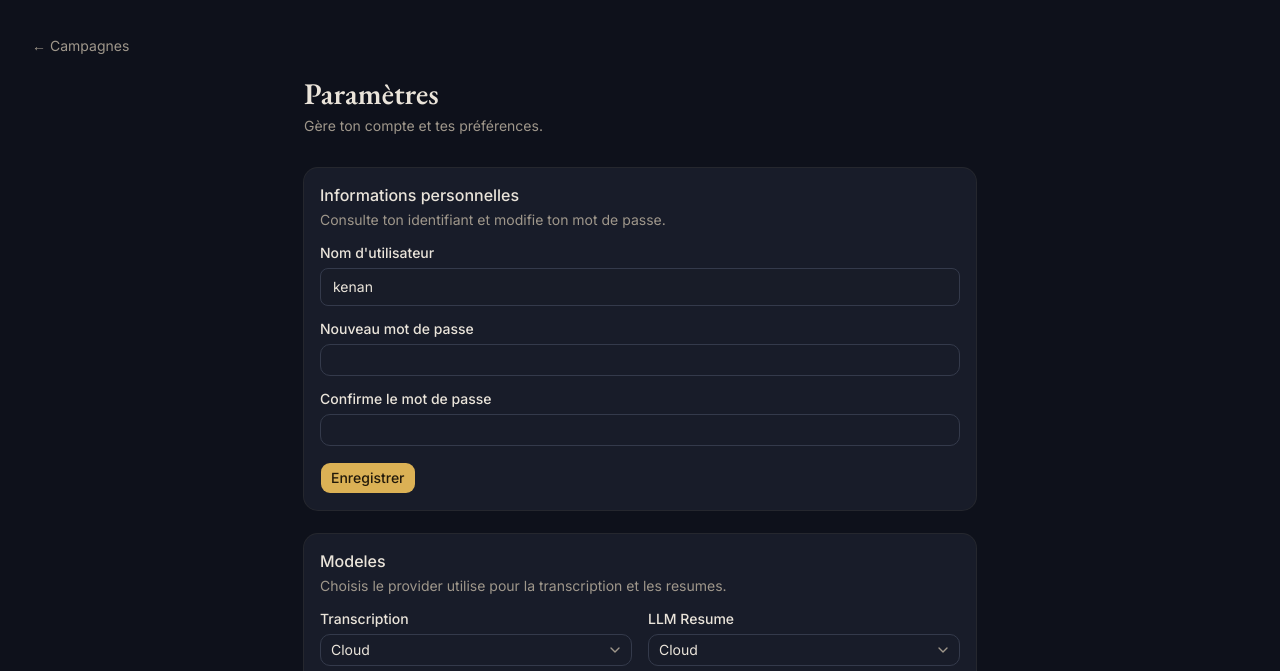
<SettingsPage> › PATCH 403 -> message de permission, pas de toast de succes
Type "nouveau-secret" into the password field labelled "Nouveau mot de passe" at [640, 360], box [320,344,960,376]
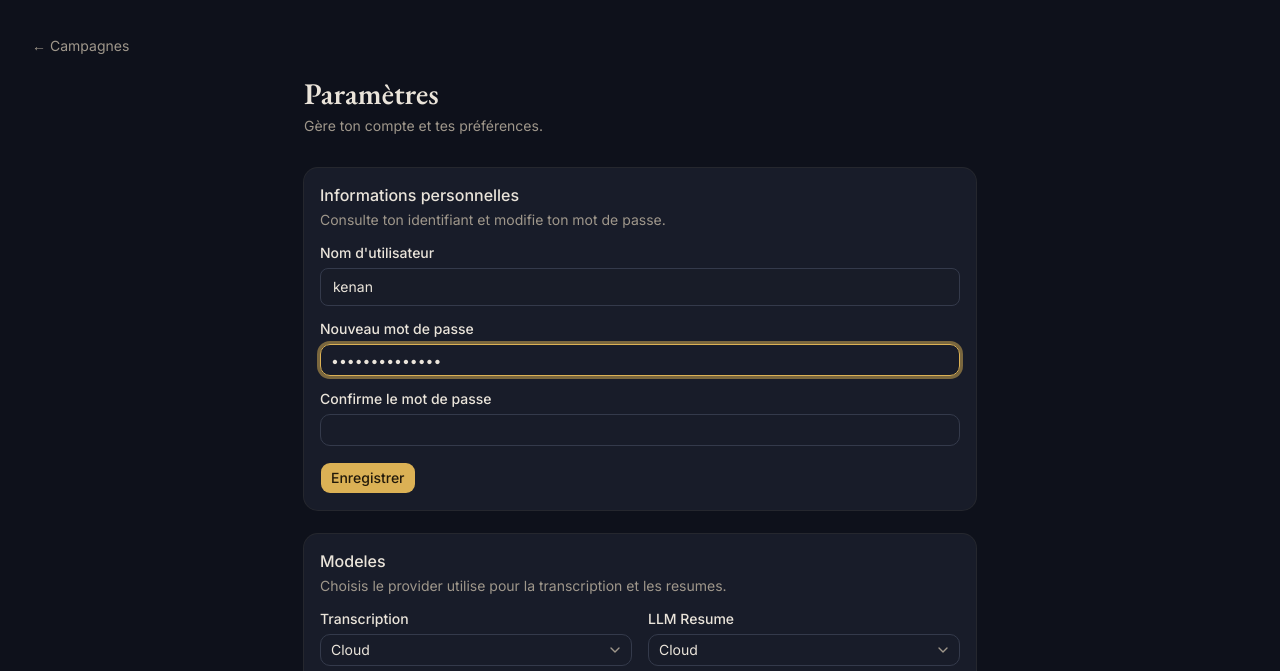
Type "nouveau-secret" into the password field labelled "Confirme le mot de passe" at [640, 430], box [320,414,960,446]
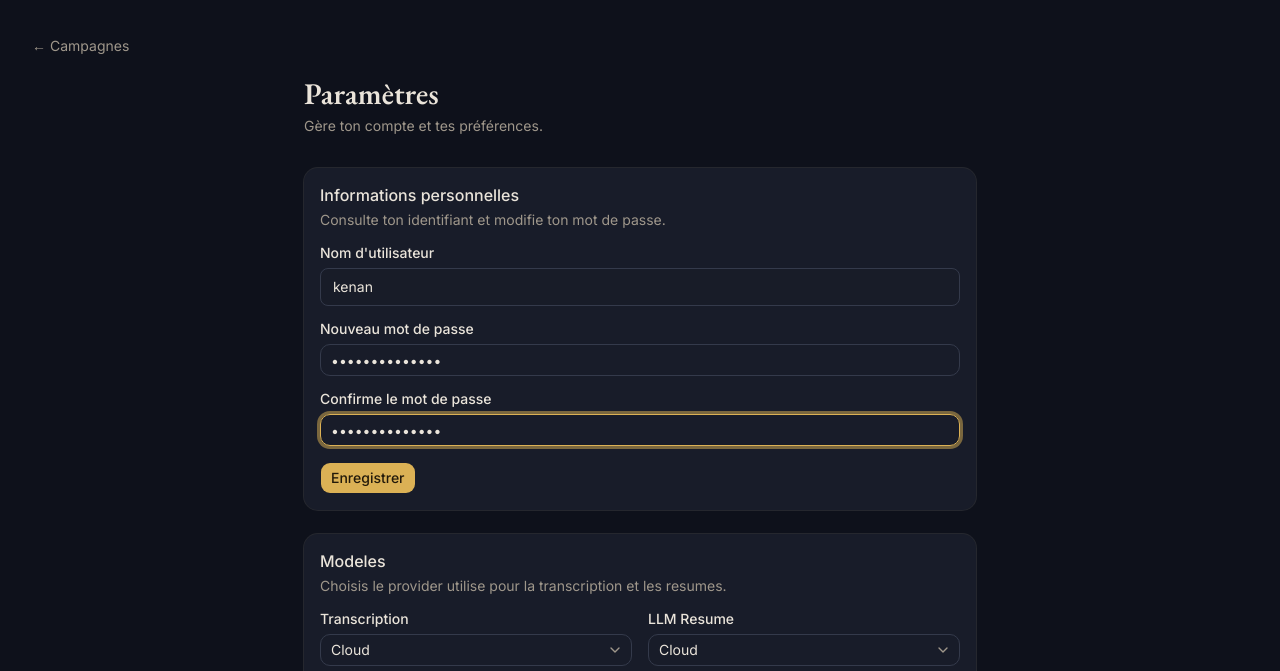
Click the button "Enregistrer" at [368, 478], box [320,462,416,494]
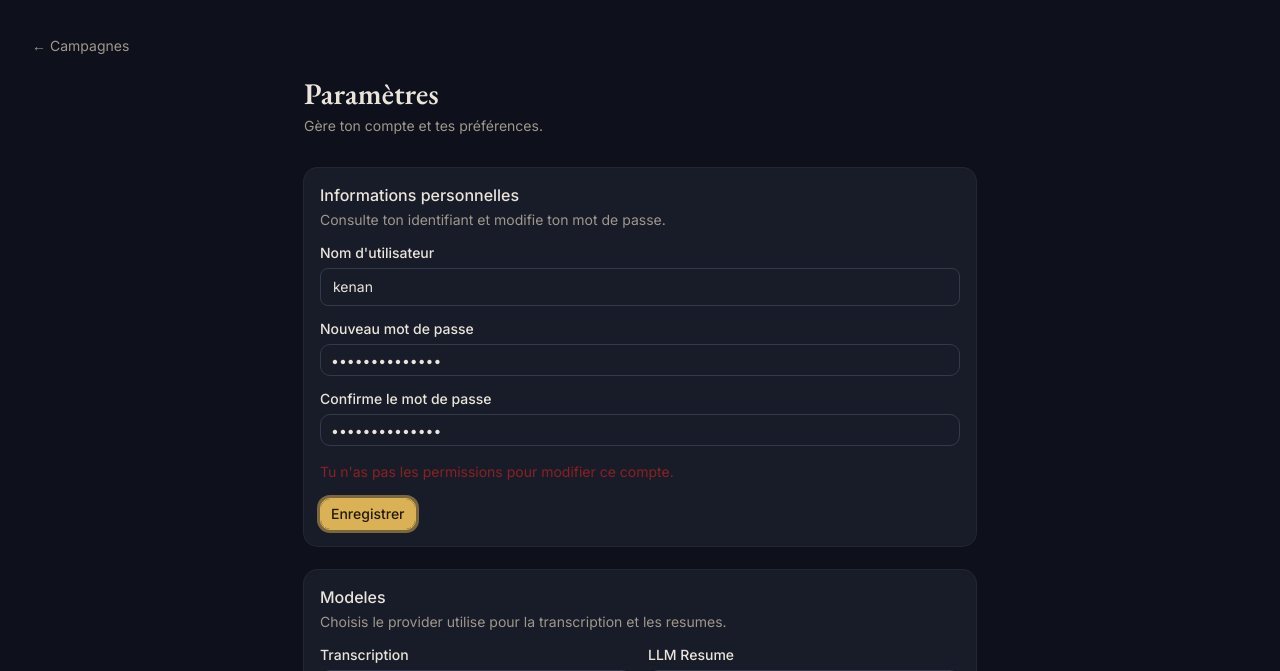
Expected: the text "Tu n'as pas les permissions pour modifier ce compte." is shown, [320,463,674,480]
